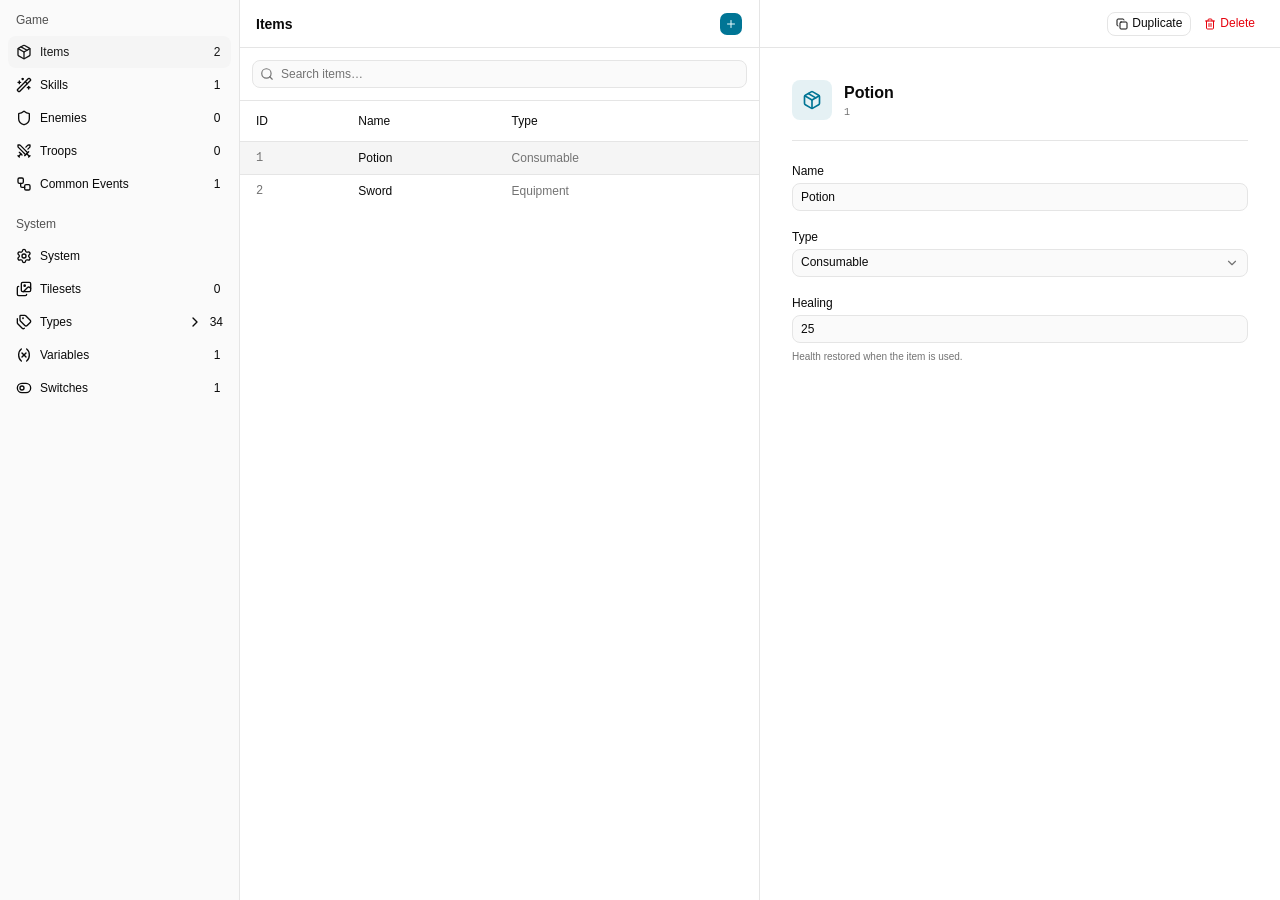
Test case: DatabaseManager › keeps one navigation sidebar and uses detailed tables for database entries
The width and height of the screenshot is (1280, 900).
Check: the text "Game" is shown, box [16, 13, 49, 27]
Check: the text "System" is shown 2 times, box [16, 217, 56, 231]; [40, 248, 80, 264]
Type "potion" into the search field labelled "Search items" at point(500, 74), box [252, 60, 747, 88]
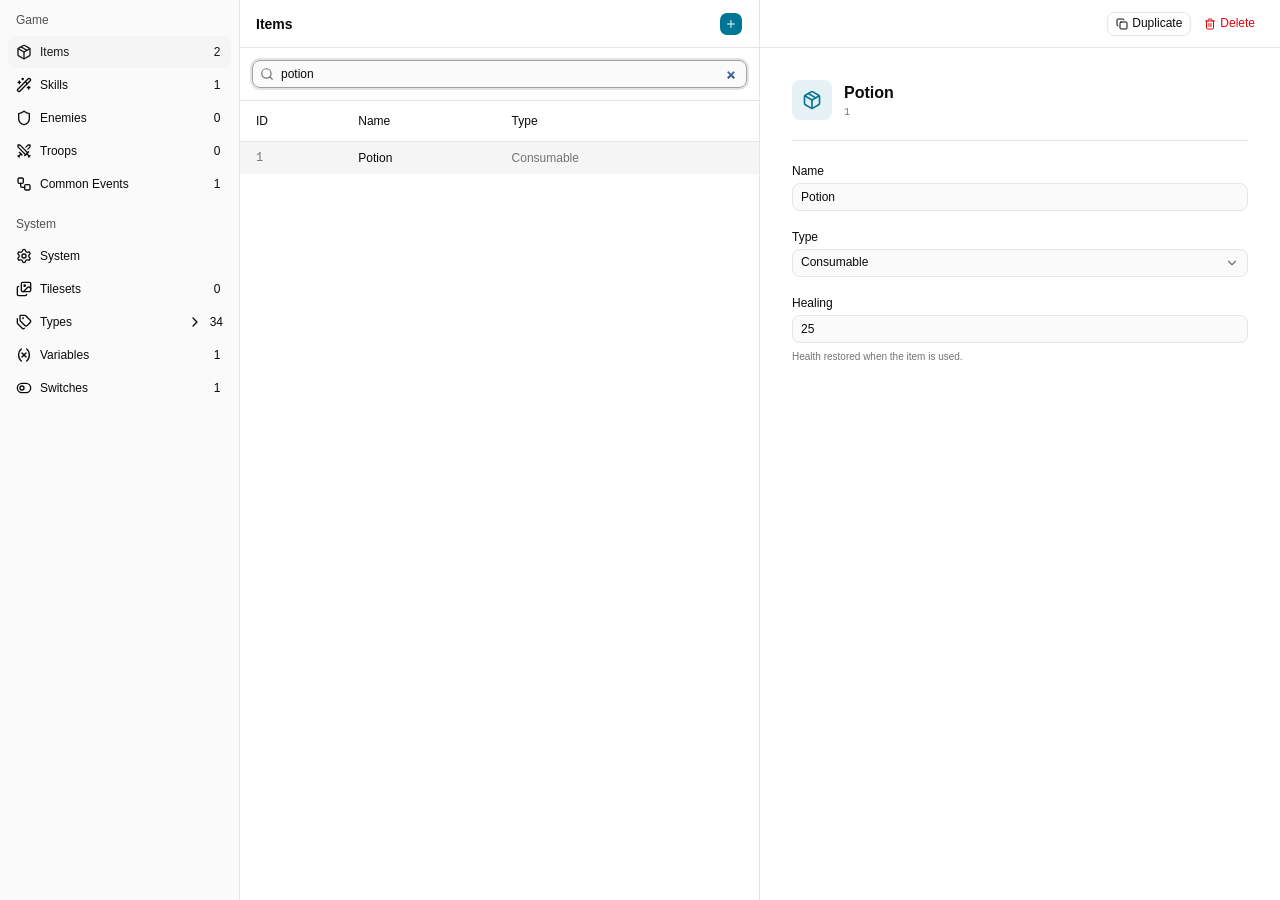
Check: the row "1 Potion consumable" is shown, box [240, 141, 759, 174]
Check: the cell "Sword" is gone
Click the button "Skills" at point(120, 85), box [8, 69, 231, 101]
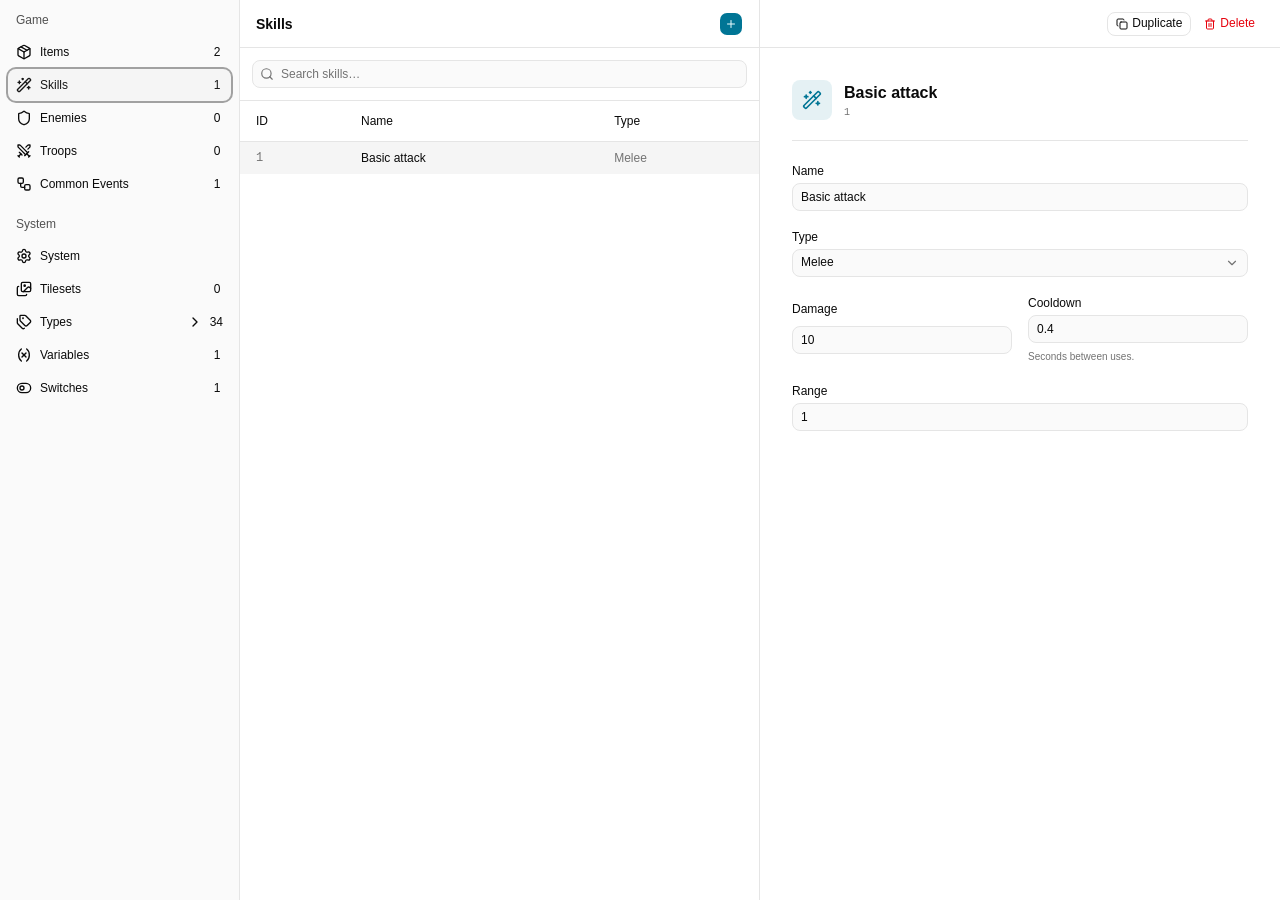
Check: the text "Basic attack" is shown 2 times, box [353, 141, 606, 174]; [844, 80, 937, 104]
Check: the table named "Skills" is shown, box [240, 101, 759, 174]
Check: the row "1 Basic attack melee" is shown, box [240, 141, 759, 174]
